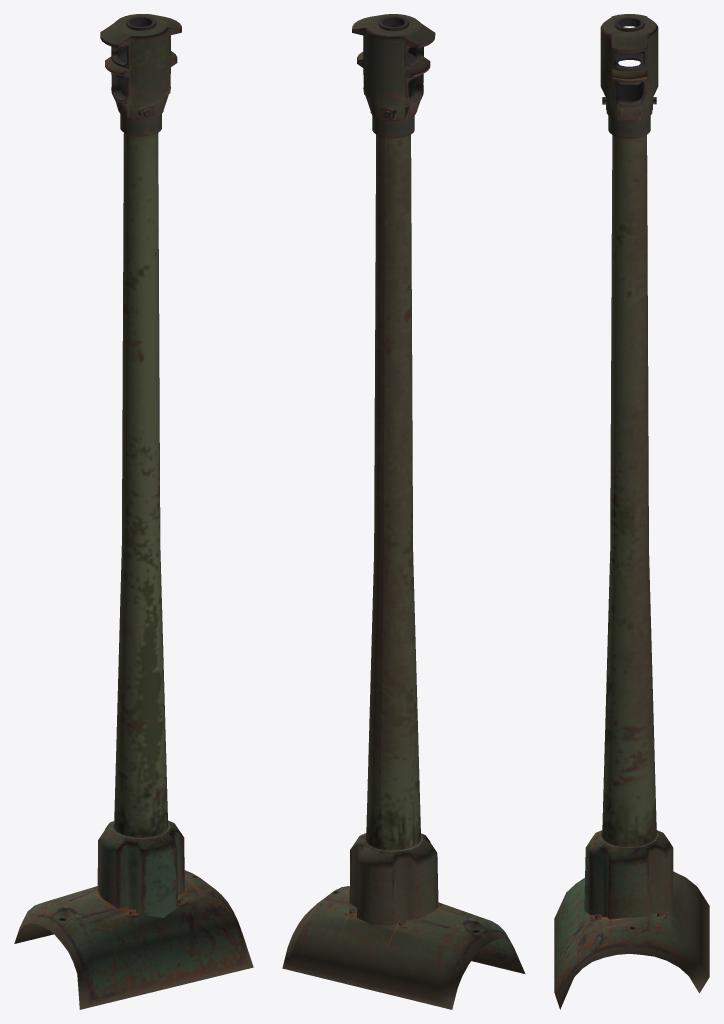
The model's file is Gun_04.glb.
The picture shows the model from 3 angles, left to right: view 1: azimuth 30°, elevation 25°; view 2: azimuth 150°, elevation 25°; view 3: azimuth 270°, elevation 25°; orthographic projection.
Parts seen in each view (by area): view 1: set_0_group_0; view 2: set_0_group_0; view 3: set_0_group_0.
Boxes of the visible parts, box(x1,y1,x2,y2) form: set_0_group_0: box(14, 14, 253, 1009); set_0_group_0: box(282, 14, 525, 1009); set_0_group_0: box(554, 14, 709, 1009).
Size of the model in its own units: 0.7765 by 4.01 by 0.595.
Materials: 1 (1 with a texture image).
